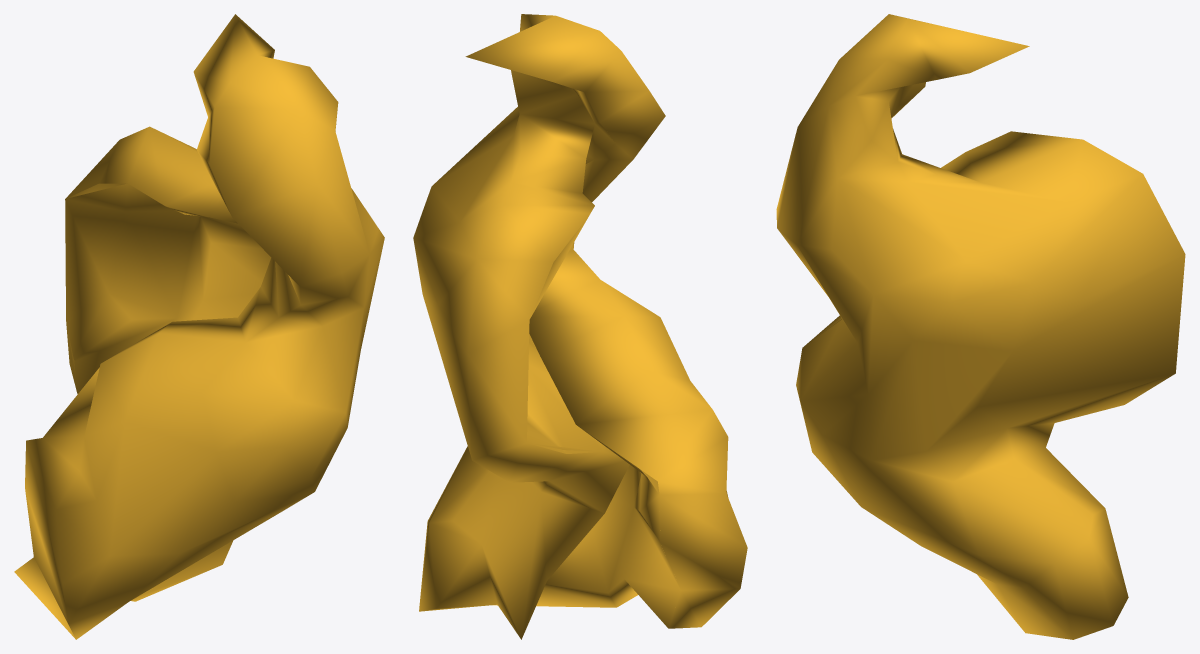
The model's file is nervoso-anterior-occipital-sulcus-r.glb.
3 renders of one model, left to right at view 1: azimuth 30°, elevation 25°; view 2: azimuth 150°, elevation 25°; view 3: azimuth 270°, elevation 25°, orthographic. The views are drawn at different scales.
Visible parts, largest first — view 1: Anterior occipital sulcus*.r; view 2: Anterior occipital sulcus*.r; view 3: Anterior occipital sulcus*.r.
Boxes of the visible parts, left/top/right/bottom form: Anterior occipital sulcus*.r: left=14, top=14, right=384, bottom=639; Anterior occipital sulcus*.r: left=413, top=14, right=747, bottom=639; Anterior occipital sulcus*.r: left=776, top=14, right=1185, bottom=639.
Size of the model in its own units: 0.0141 by 0.0244 by 0.0149.
